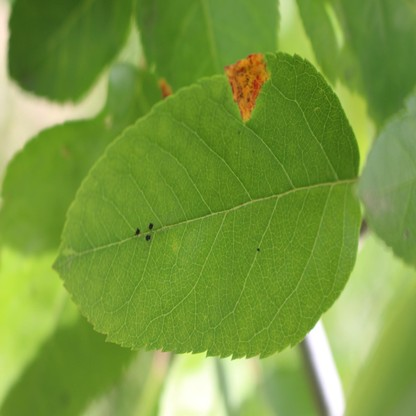rust: (225, 53, 270, 118), (159, 78, 171, 98)
